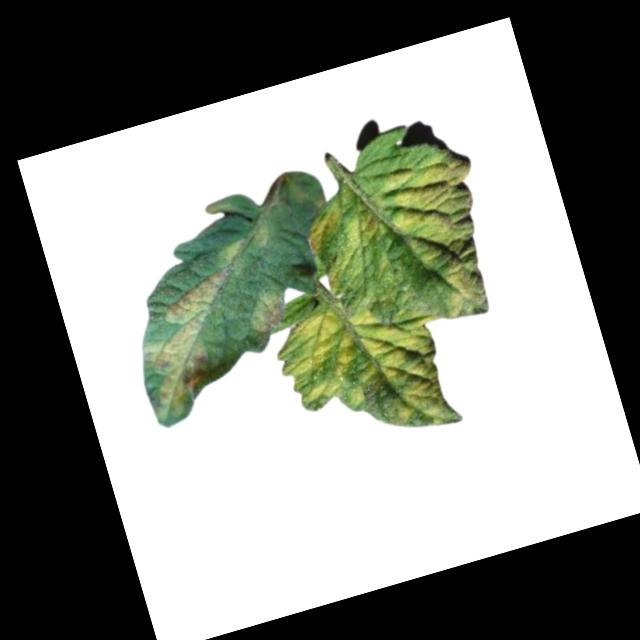Leaf_Mold: (265, 281, 459, 464), (375, 147, 512, 328), (121, 264, 266, 422), (299, 189, 395, 299), (212, 216, 276, 267), (245, 281, 295, 337)
